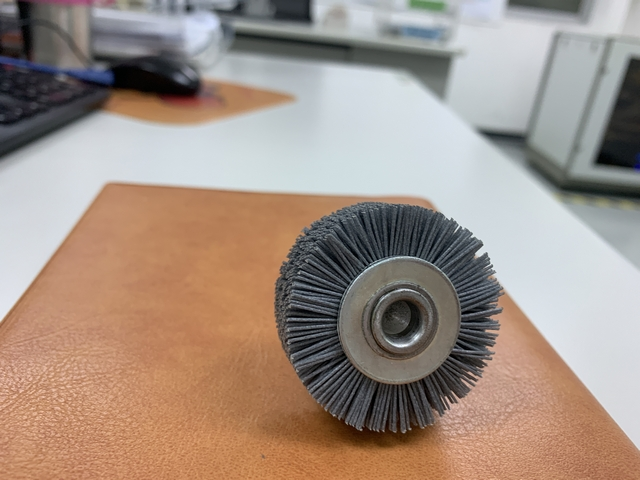Wheel Brush: (274, 201, 482, 430), (253, 193, 510, 345)
